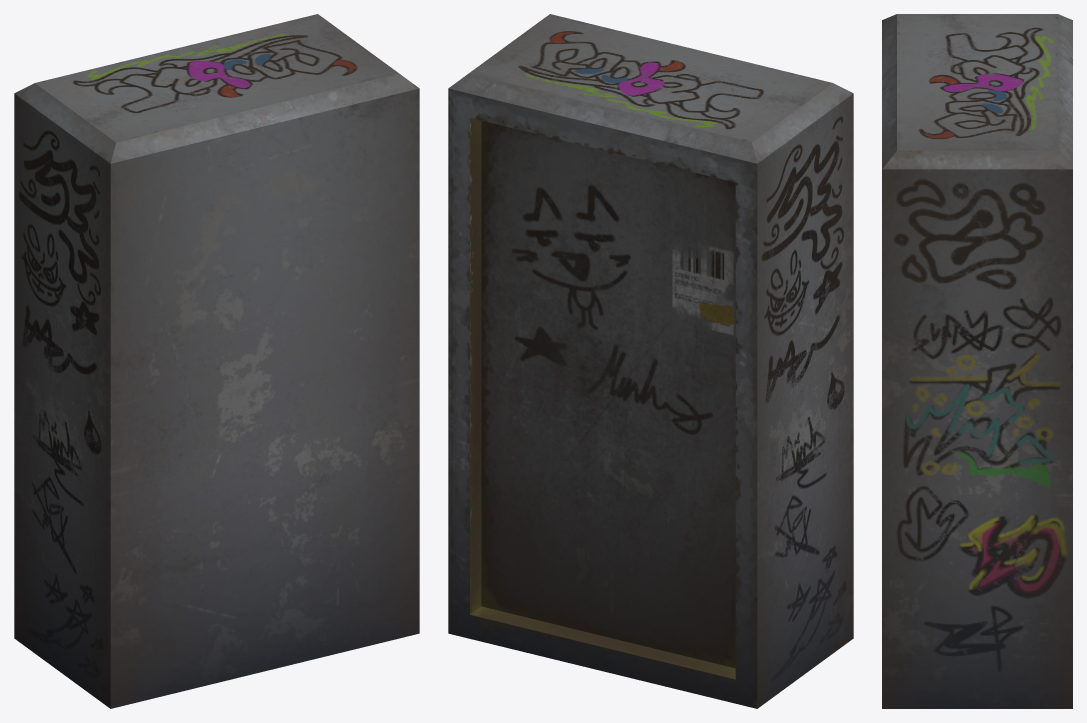
File: electricbox.obj
The picture shows the model from 3 angles, left to right: view 1: azimuth 30°, elevation 25°; view 2: azimuth 150°, elevation 25°; view 3: azimuth 270°, elevation 25°; orthographic projection.
Parts seen in each view (by area): view 1: electric_ground_box_01; view 2: electric_ground_box_01; view 3: electric_ground_box_01.
Part boxes in pixels (bbox=[...]): electric_ground_box_01: bbox=[14, 14, 419, 708]; electric_ground_box_01: bbox=[448, 14, 853, 708]; electric_ground_box_01: bbox=[882, 14, 1072, 708].
Size of the model in its own units: 0.56 by 0.9657 by 0.3024.
1 material, 1 textured.
